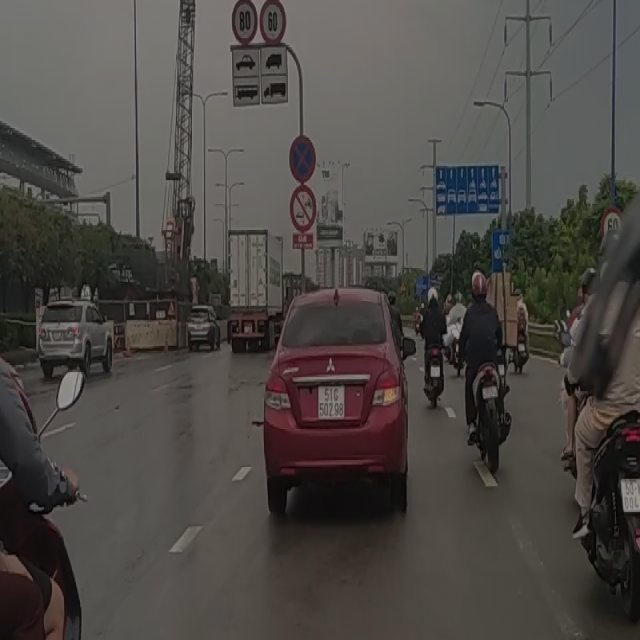B.8a: (289, 185, 317, 231)
P.127*60: (231, 1, 257, 45), (260, 1, 286, 43)
P.130: (289, 135, 317, 181)
